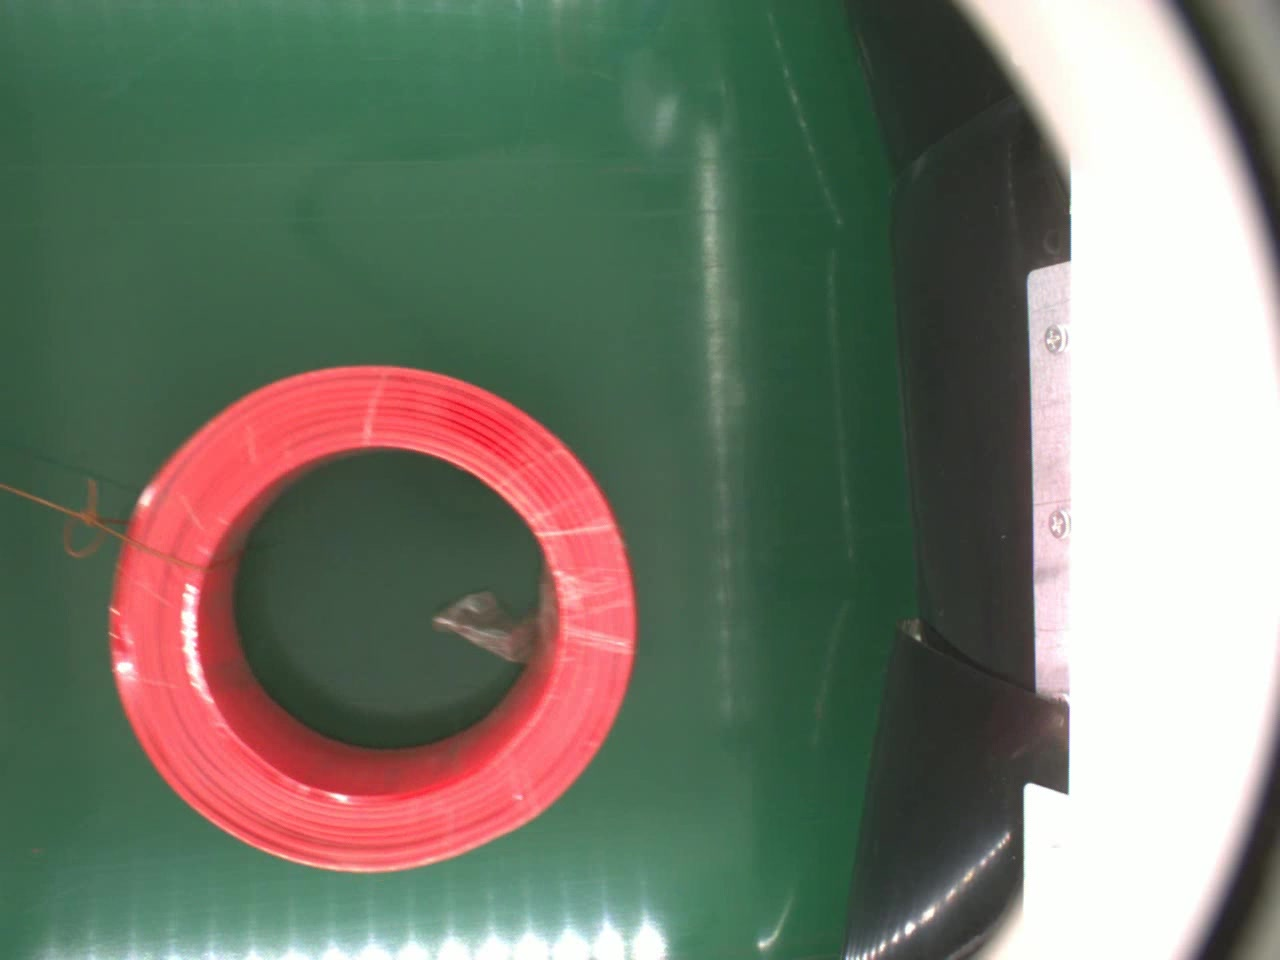red: (108, 361, 642, 881)
